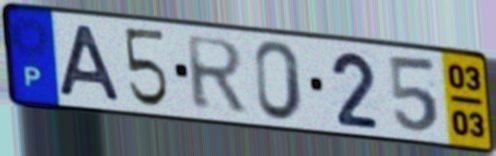0: (252, 38, 305, 124)
2: (325, 45, 386, 133)
5: (386, 56, 442, 135), (121, 25, 169, 110)
A: (57, 22, 125, 104)
R: (183, 33, 250, 114)
